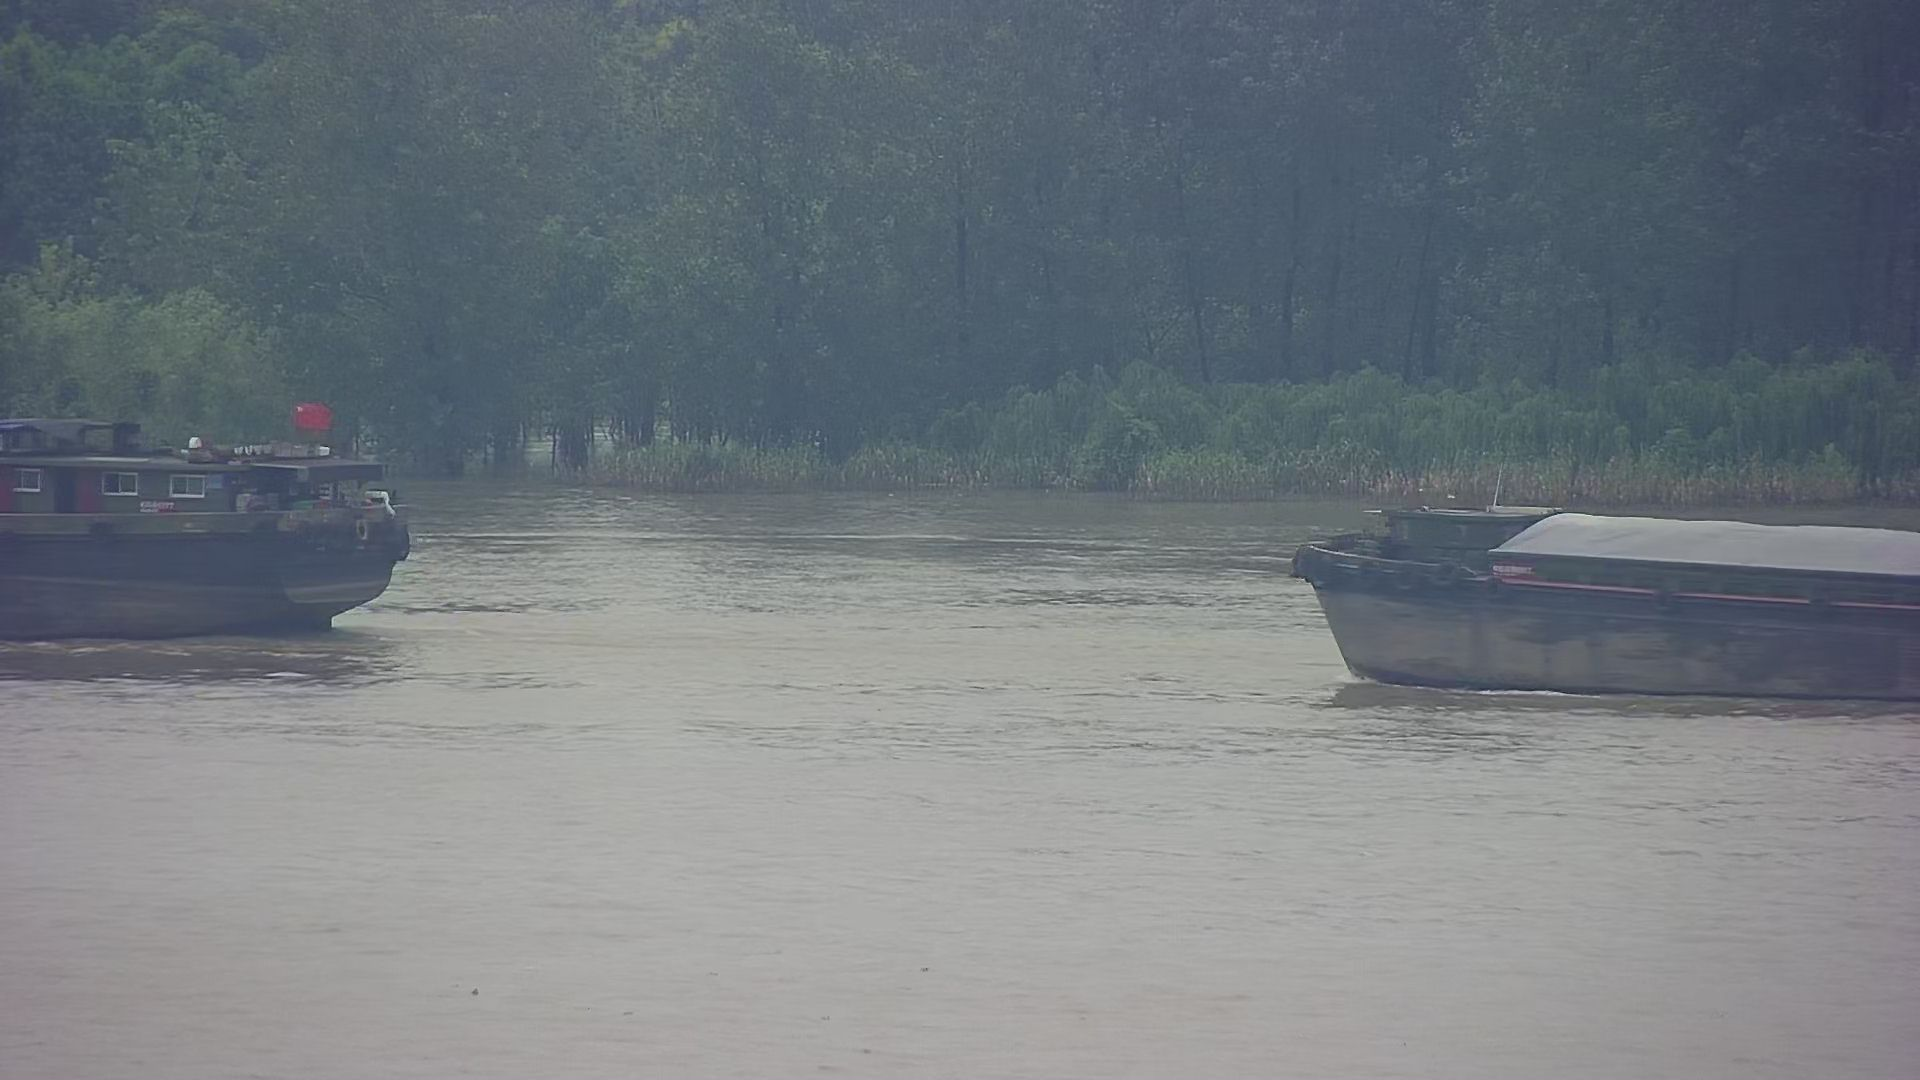ship: (1274, 462, 1920, 741), (1, 384, 433, 642)
